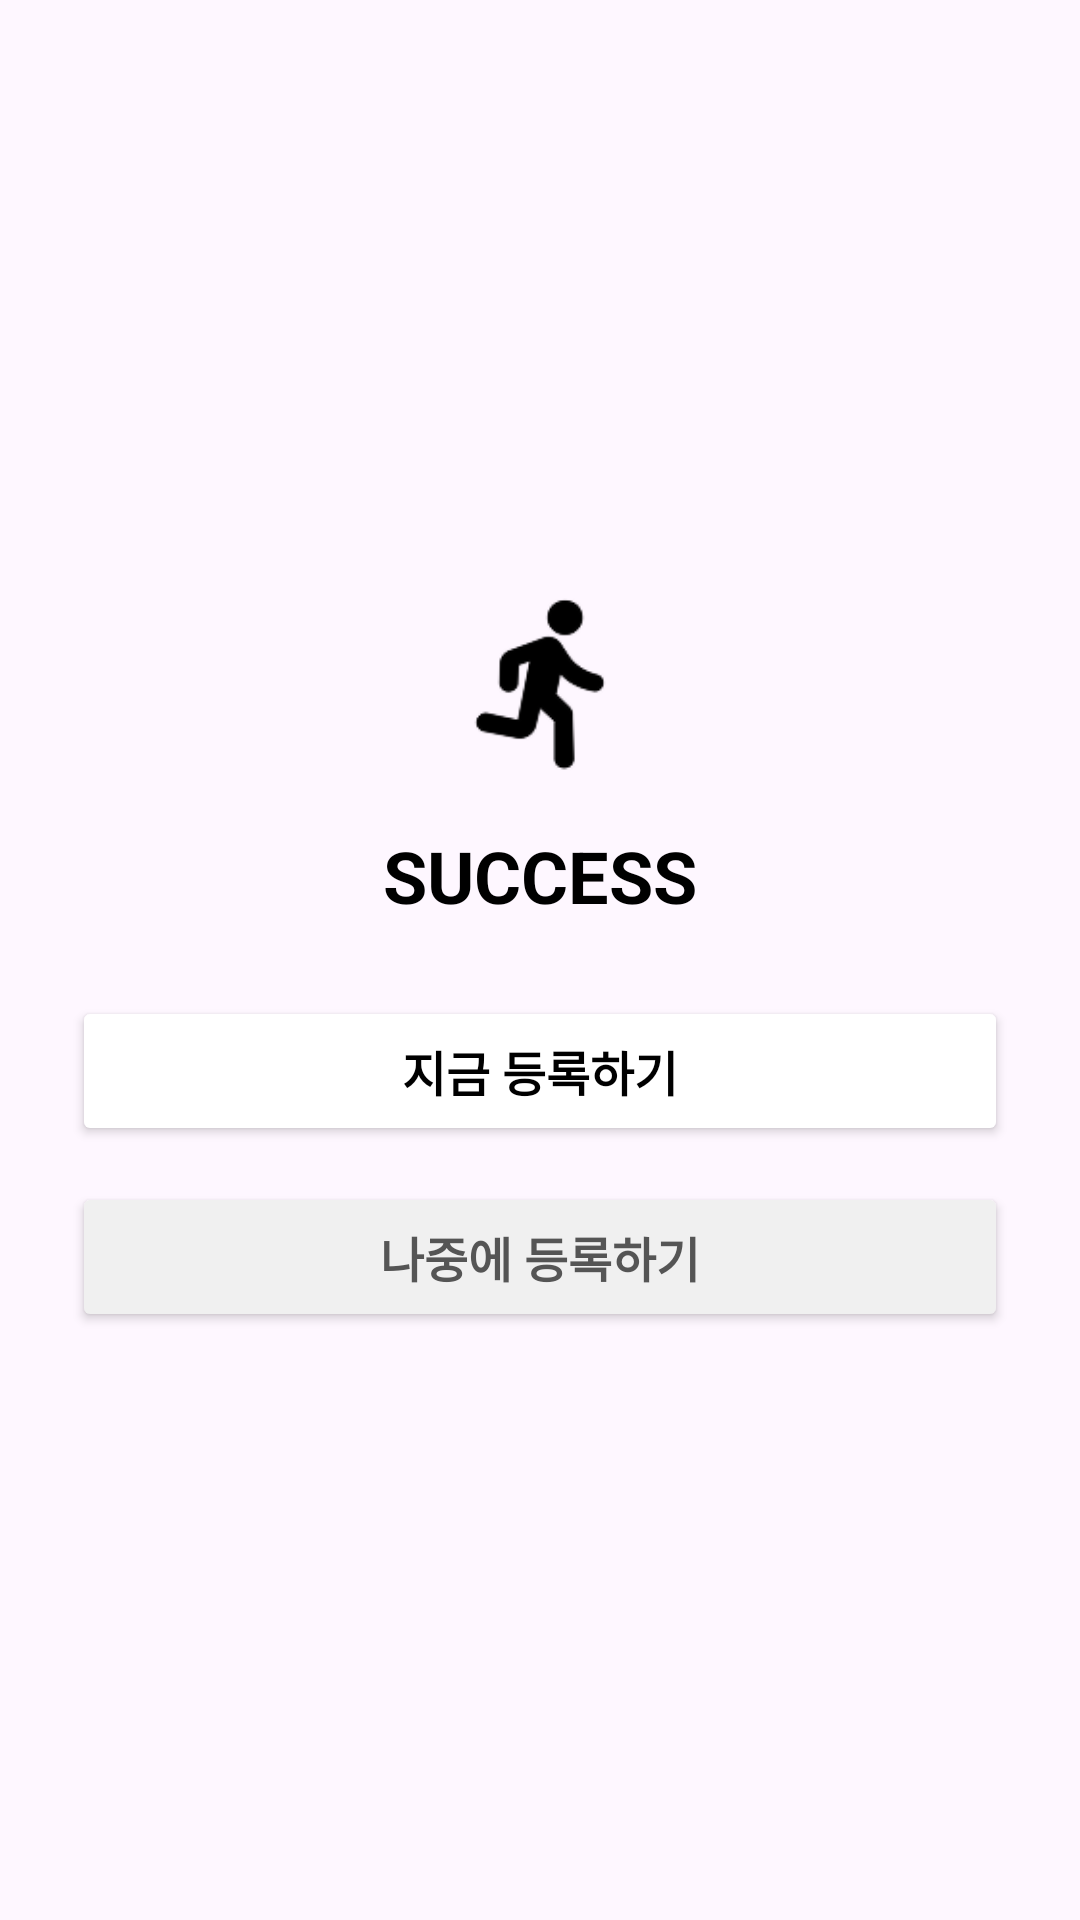

Icon click points for this 1080w x 1920h phone screenshot, format (x=x, y=y):
run: (x=539, y=685)
